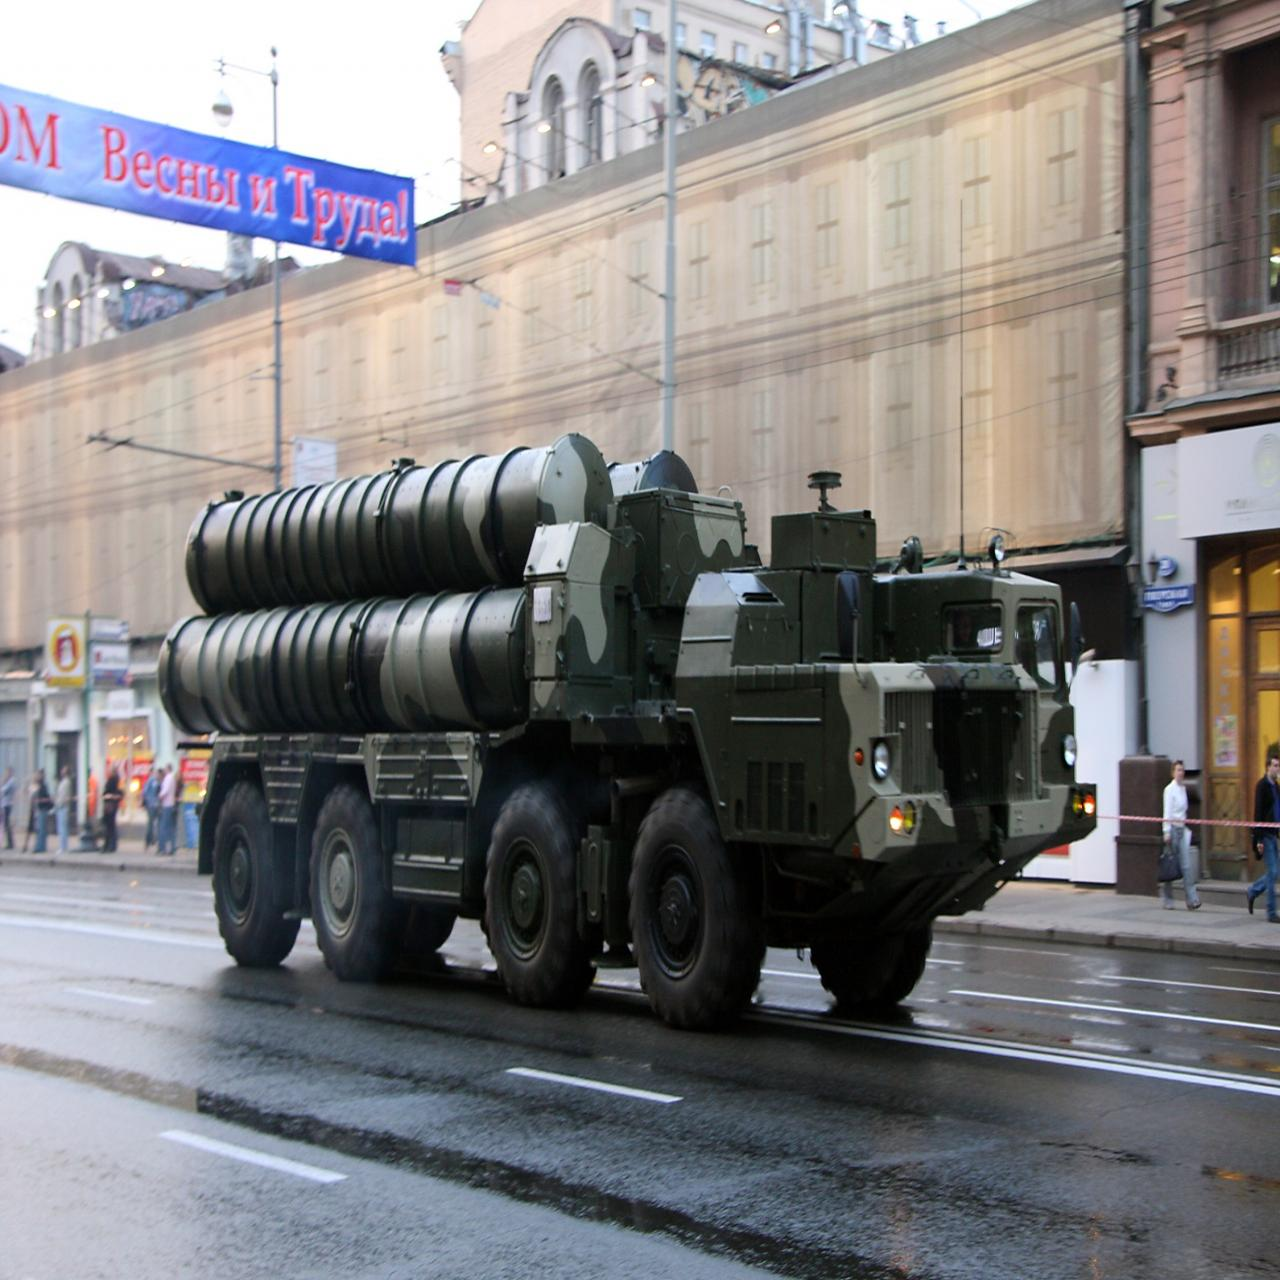MIL_Veh: (161, 472, 1084, 1026)
